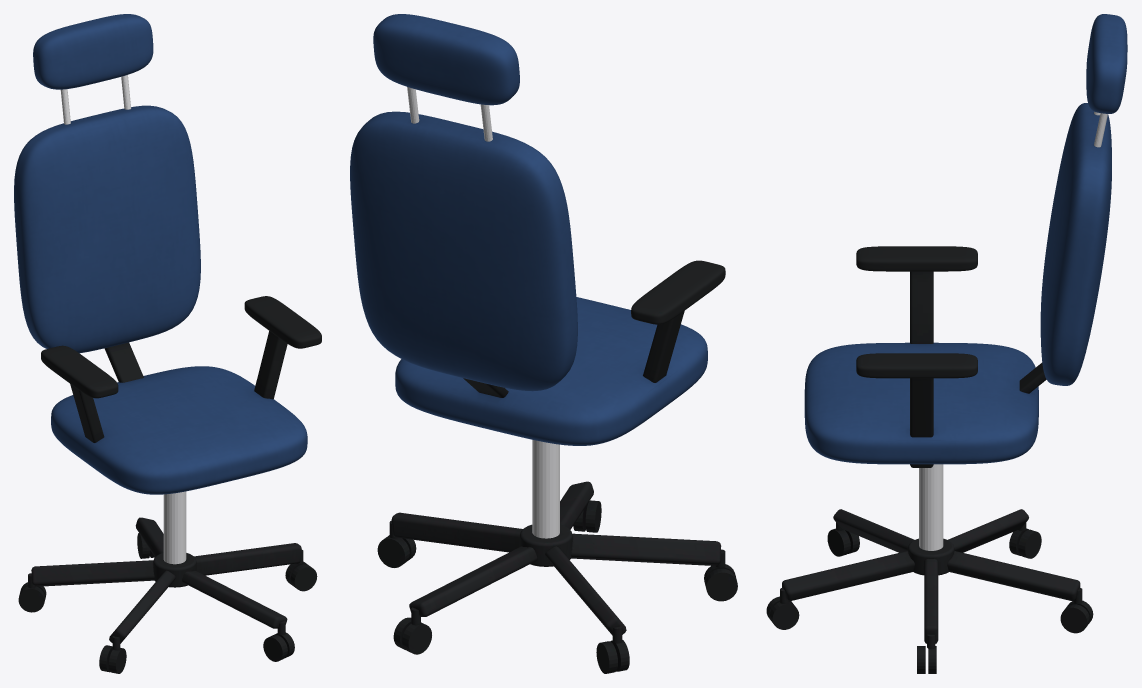
File: fabric-blue.glb
3 views of the same model, side by side, from view 1: azimuth 30°, elevation 25°; view 2: azimuth 150°, elevation 25°; view 3: azimuth 270°, elevation 25° (orthographic). The views are drawn at different scales.
Visible parts, largest first — view 1: fabric_primary, plastic_black, metal_frame, chrome; view 2: fabric_primary, metal_frame, plastic_black, chrome; view 3: fabric_primary, plastic_black, metal_frame, chrome.
Boxes of the visible parts, bbox=[...] form: fabric_primary: bbox=[14, 14, 307, 494]; plastic_black: bbox=[18, 296, 321, 673]; metal_frame: bbox=[28, 517, 303, 649]; chrome: bbox=[60, 75, 186, 564]; fabric_primary: bbox=[350, 14, 707, 445]; metal_frame: bbox=[389, 481, 725, 643]; plastic_black: bbox=[377, 260, 737, 673]; chrome: bbox=[407, 87, 559, 538]; fabric_primary: bbox=[804, 14, 1127, 464]; plastic_black: bbox=[766, 246, 1093, 673]; metal_frame: bbox=[780, 509, 1082, 648]; chrome: bbox=[919, 111, 1107, 550].
Bounding box in the file's own units: 0.67 × 1.35 × 0.7708.
Materials: 4 (3 with a texture image).
